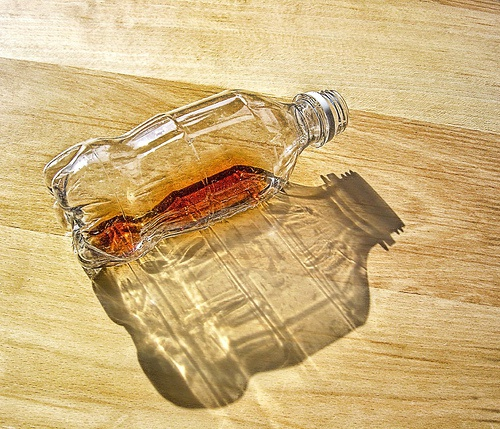emptybottle: (42, 89, 350, 268)
